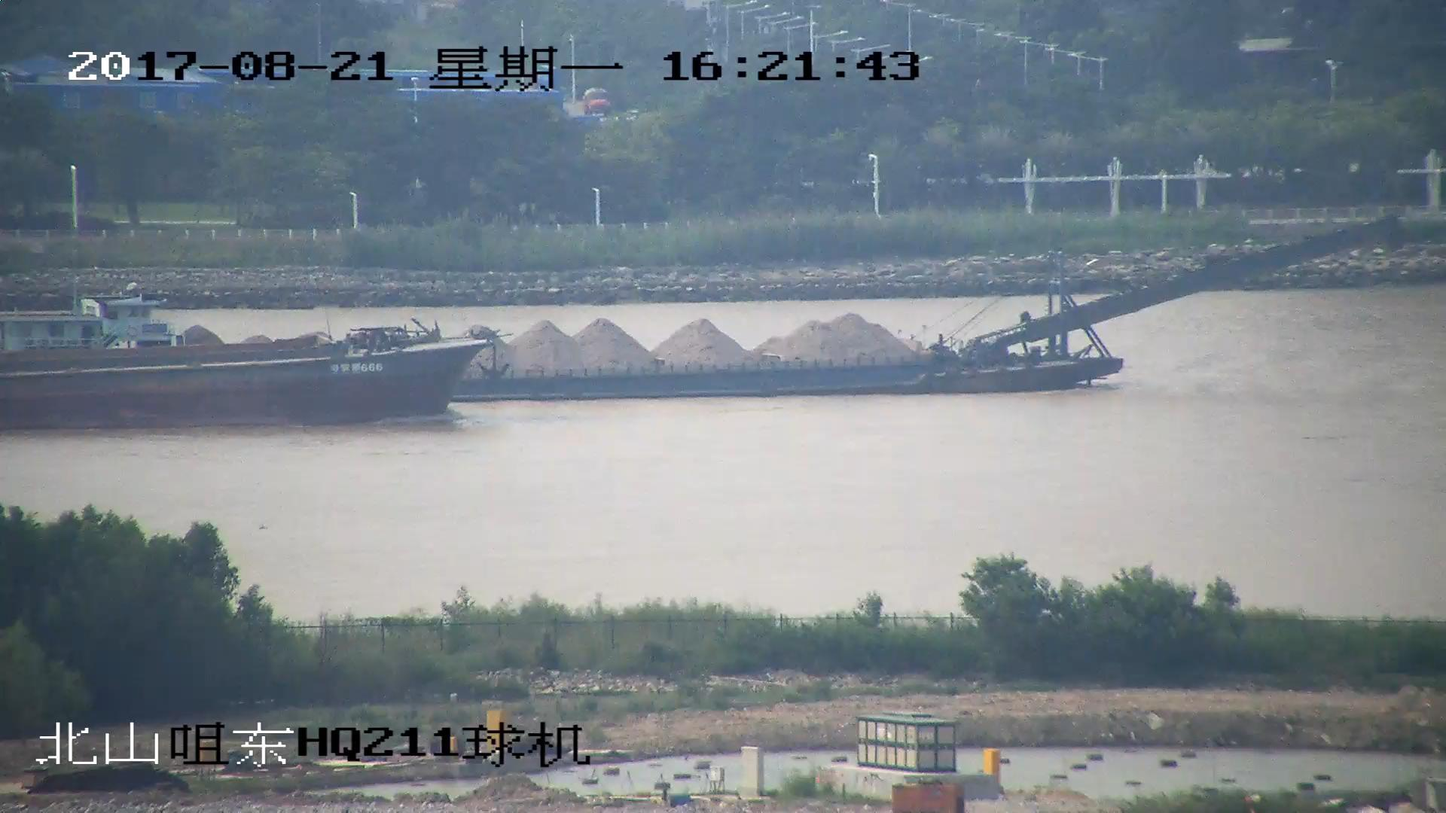bulk cargo carrier: (0, 330, 500, 430)
ore carrier: (0, 218, 1398, 403)
